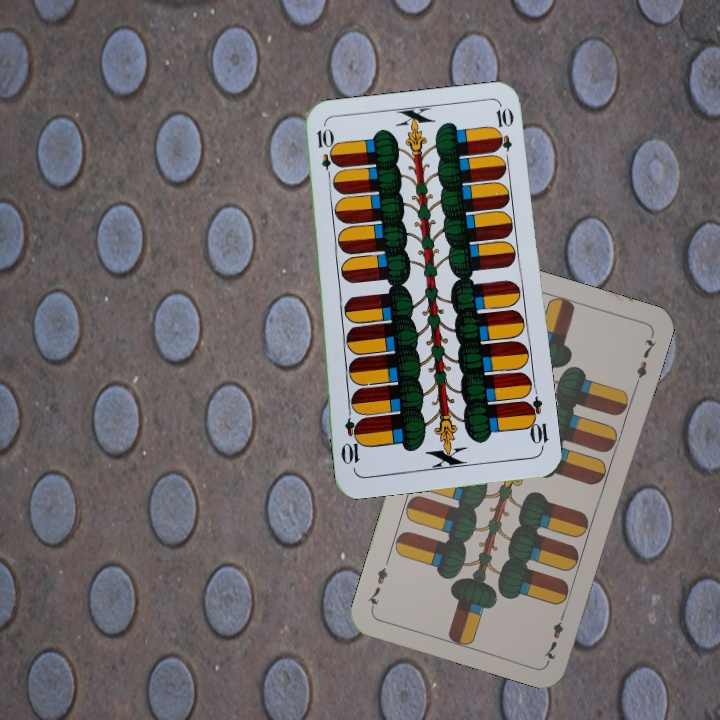E10: (520, 393, 551, 452), (313, 125, 336, 184)
E7: (540, 606, 567, 664)
